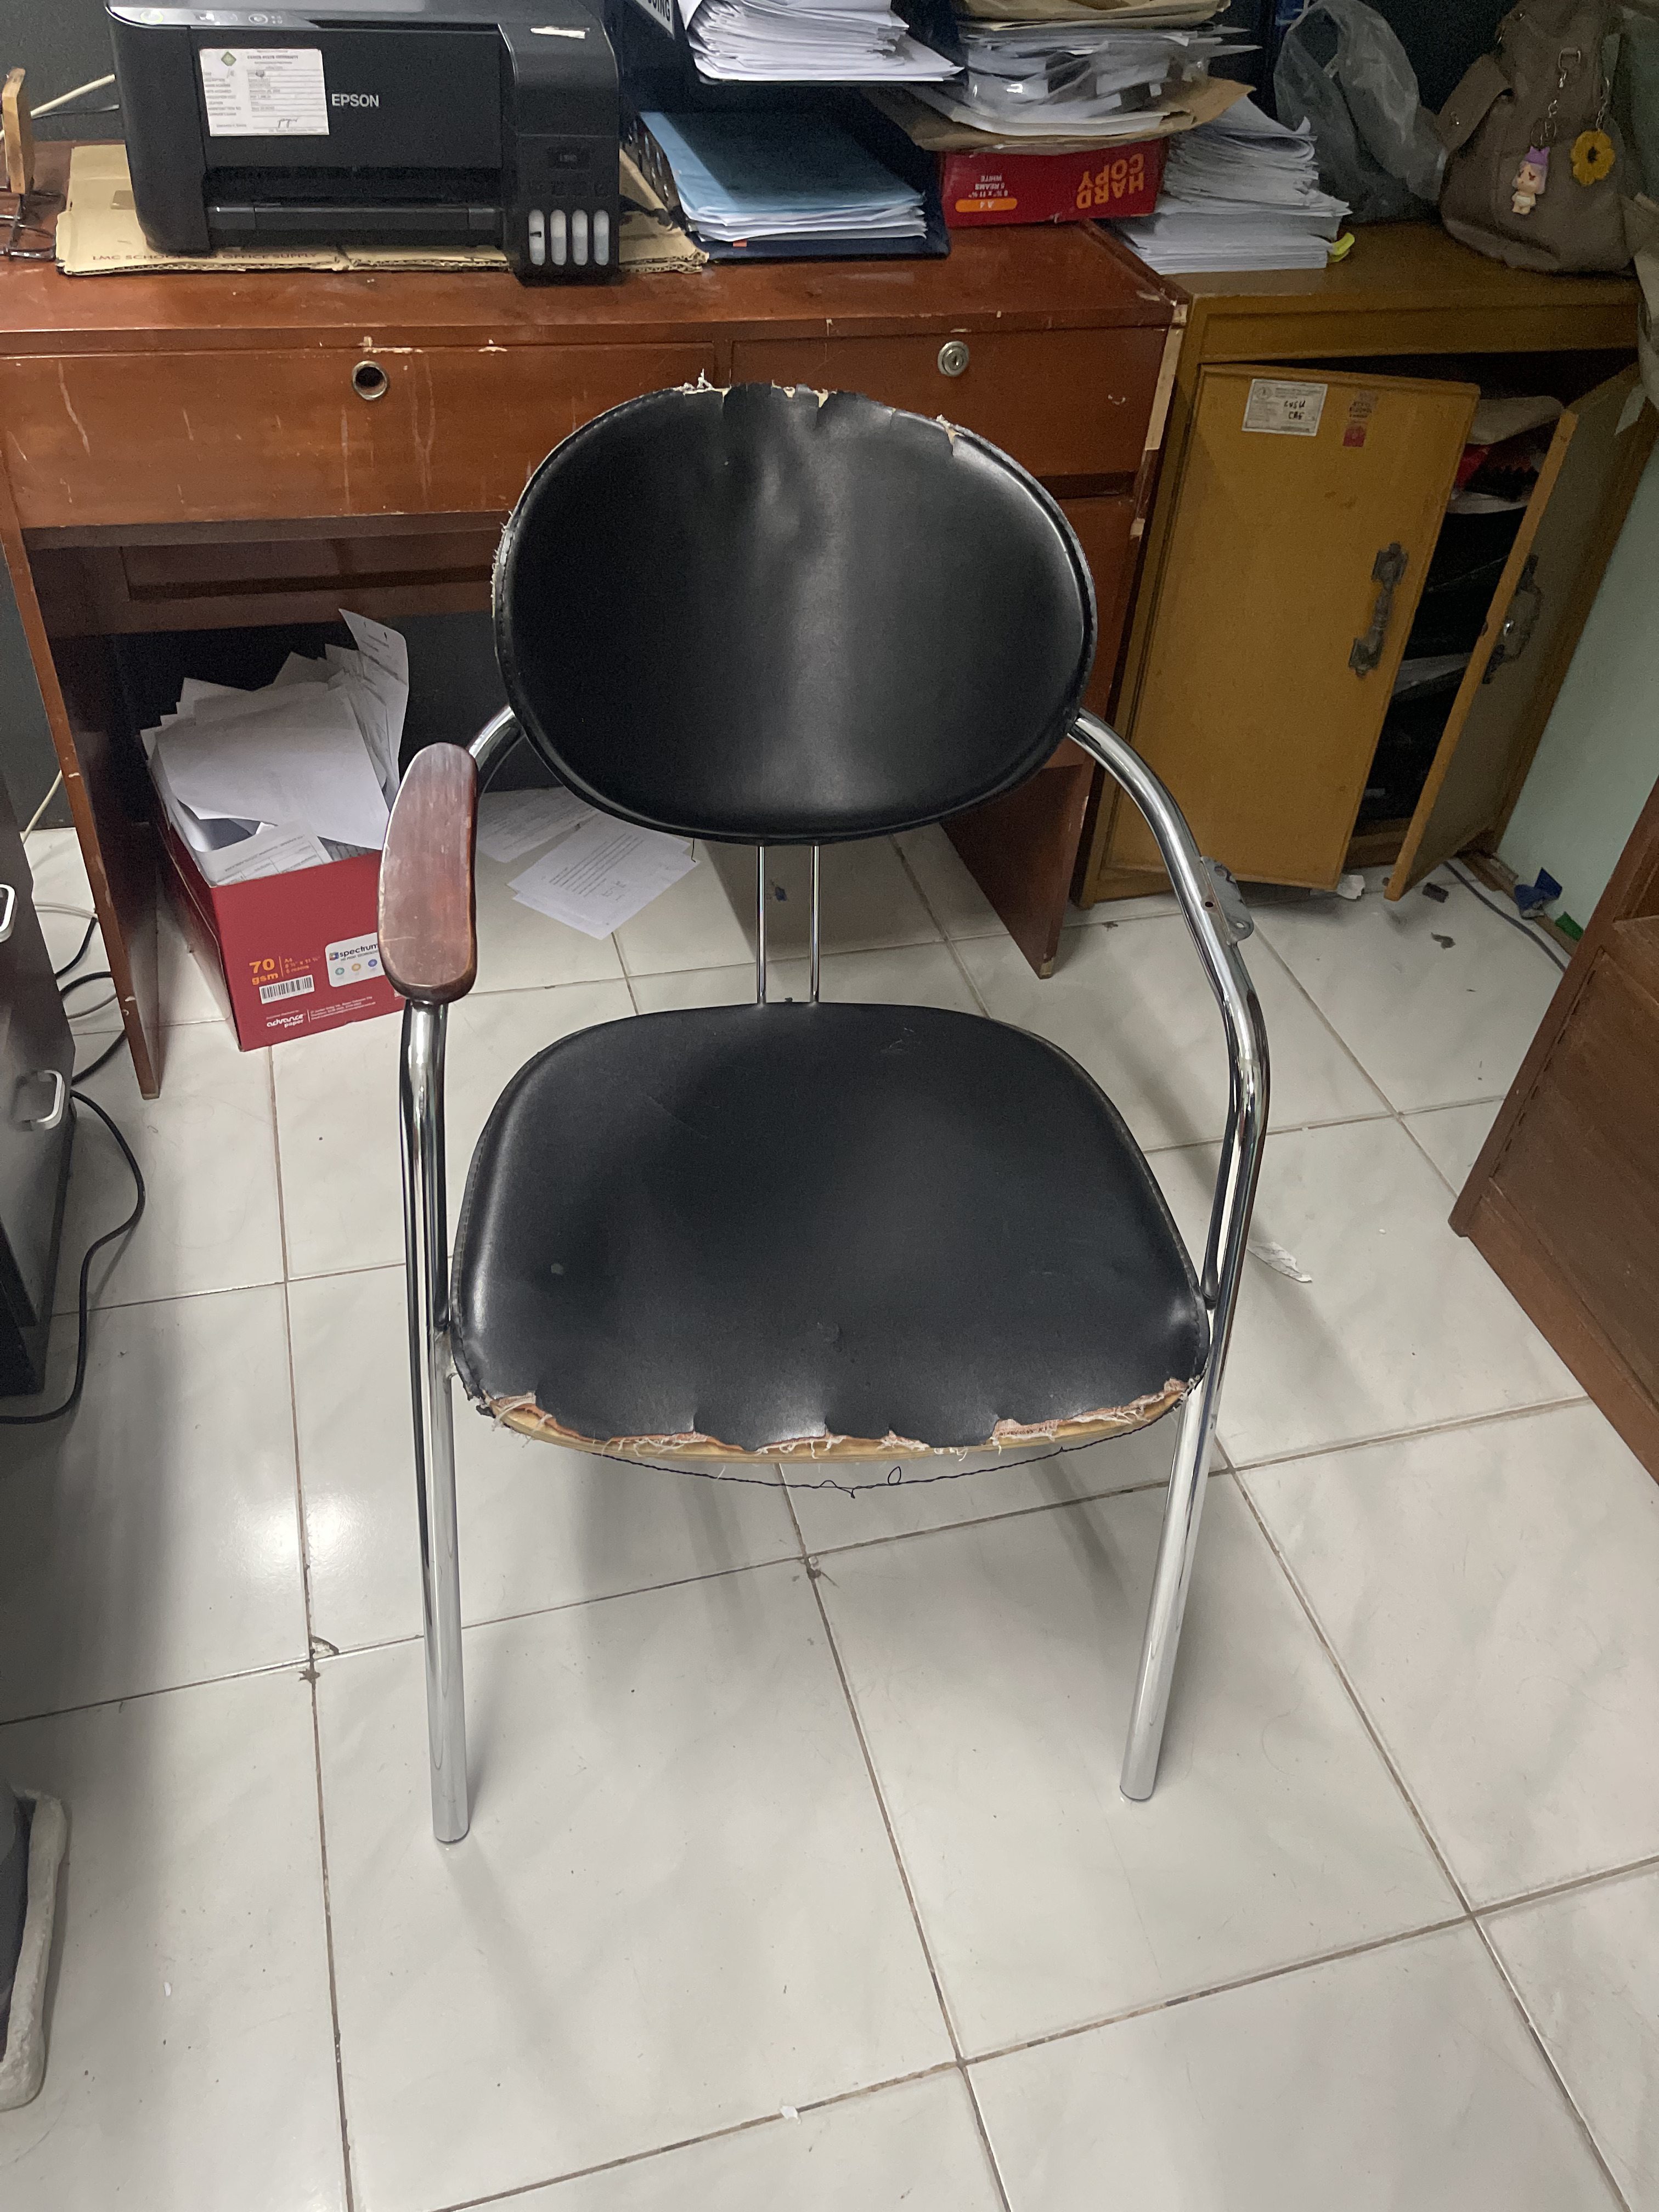chair1: (361, 371, 1279, 1850)
